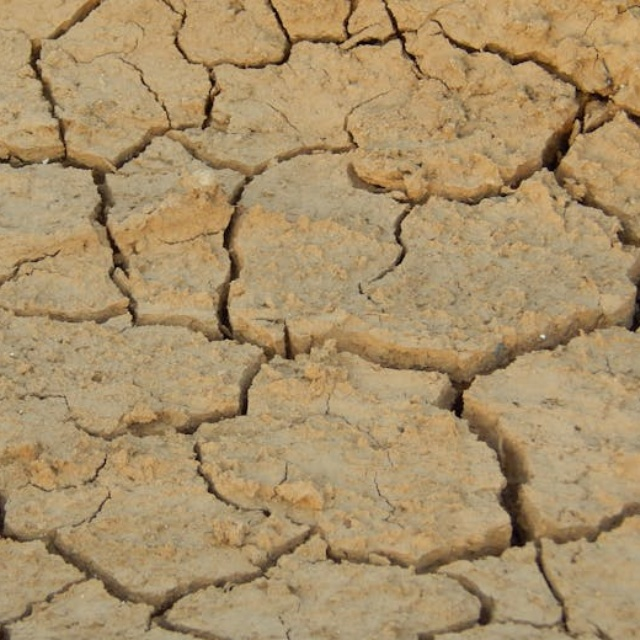细微裂纹: (0, 0, 599, 640), (0, 11, 273, 605), (243, 242, 611, 640), (80, 35, 373, 487), (138, 24, 307, 640), (440, 336, 578, 640), (366, 299, 489, 640), (181, 54, 278, 414), (553, 190, 640, 567), (588, 210, 640, 554)
网状裂隙: (0, 0, 335, 640)
